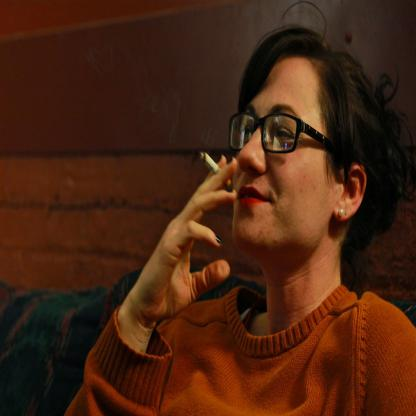smoking: (199, 151, 233, 190)
